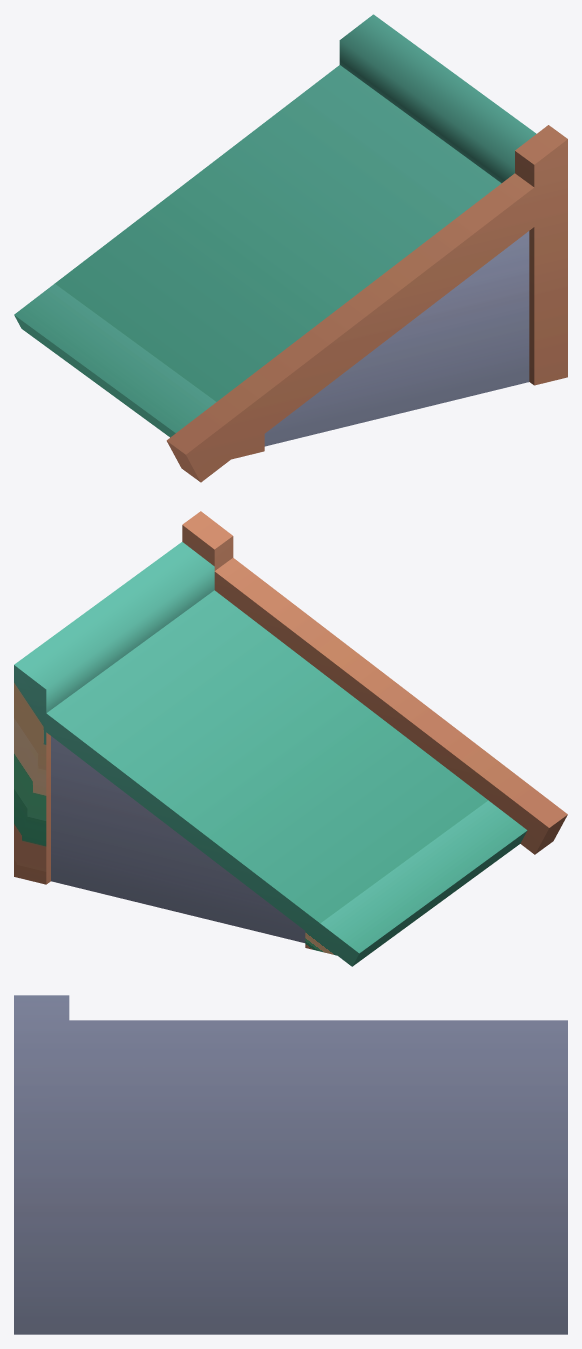
Rendered from roof-right.glb.
3 renders of one model, top to bottom at view 1: azimuth 30°, elevation 25°; view 2: azimuth 150°, elevation 25°; view 3: azimuth 270°, elevation 25°, orthographic. The views are drawn at different scales.
Visible parts, largest first — view 1: roof-right; view 2: roof-right; view 3: roof-right.
Boxes of the visible parts, bbox=[...] form: roof-right: bbox=[14, 14, 567, 482]; roof-right: bbox=[14, 511, 567, 966]; roof-right: bbox=[14, 995, 567, 1334].
Bounding box in the file's own units: 1.13 × 0.7206 × 1.
Materials: 1 (1 with a texture image).
